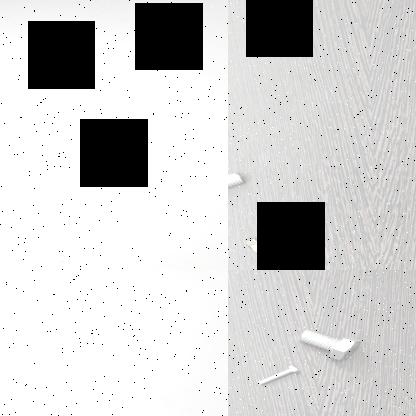Bolts: (243, 222, 314, 258), (298, 328, 364, 362), (255, 364, 306, 386), (228, 170, 249, 204)
